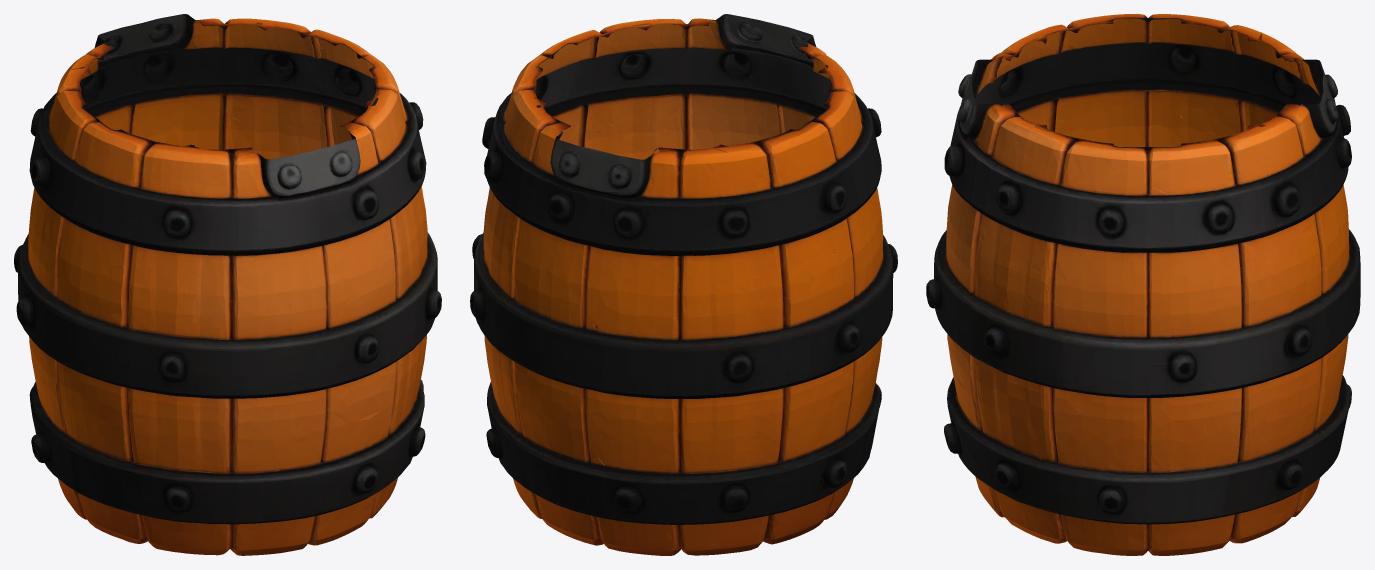
The model's file is body.glb.
The picture shows the model from 3 angles, left to right: view 1: azimuth 30°, elevation 25°; view 2: azimuth 150°, elevation 25°; view 3: azimuth 270°, elevation 25°; orthographic projection.
Parts seen in each view (by area): view 1: source_surface_0; view 2: source_surface_0; view 3: source_surface_0.
Boxes of the visible parts, <box> form: source_surface_0: <box>14,14,441,555</box>; source_surface_0: <box>470,14,897,555</box>; source_surface_0: <box>926,14,1360,555</box>.
Size of the model in its own units: 0.3286 by 0.3323 by 0.3209.
1 material, 1 textured.
